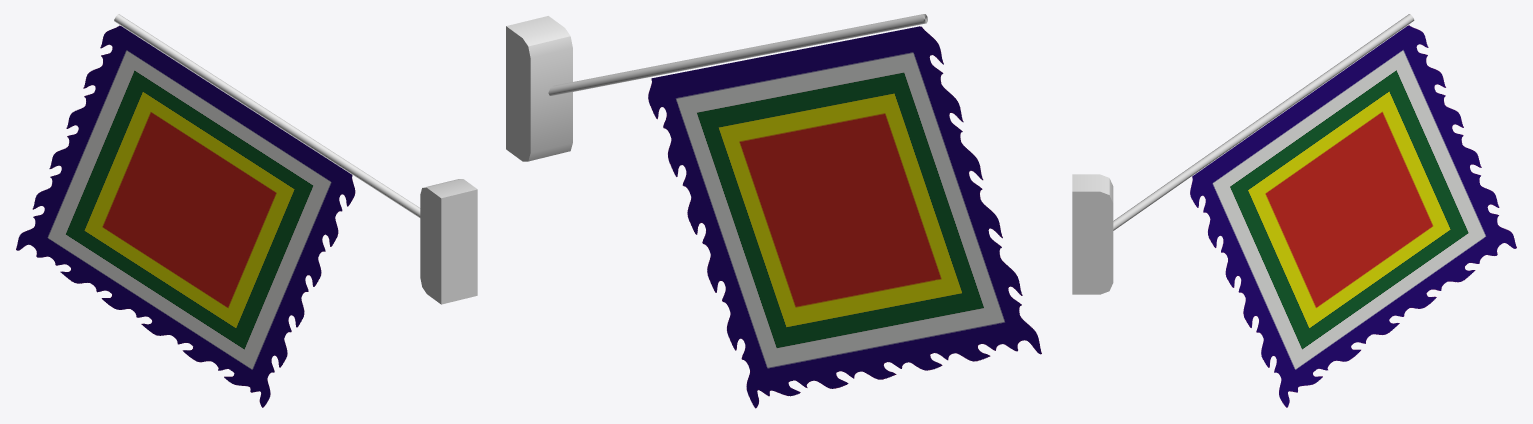
The model's file is Funeral_flag.fbx.
3 renders of one model, left to right at view 1: azimuth 30°, elevation 25°; view 2: azimuth 210°, elevation 25°; view 3: azimuth 270°, elevation 25°, orthographic. The views are drawn at different scales.
Parts seen in each view (by area): view 1: Cờ_ngũ_sắc_(cờ_hội,_cờ_tang)._Five-color_flags_(fest, Cube.062, Cylinder.004; view 2: Cờ_ngũ_sắc_(cờ_hội,_cờ_tang)._Five-color_flags_(fest, Cube.062, Cylinder.004; view 3: Cờ_ngũ_sắc_(cờ_hội,_cờ_tang)._Five-color_flags_(fest, Cube.062, Cylinder.004.
Boxes of the visible parts, x1,y1,x2,y2 form: Cờ_ngũ_sắc_(cờ_hội,_cờ_tang)._Five-color_flags_(fest: [16, 25, 355, 407]; Cube.062: [420, 179, 477, 304]; Cylinder.004: [114, 14, 420, 217]; Cờ_ngũ_sắc_(cờ_hội,_cờ_tang)._Five-color_flags_(fest: [648, 26, 1041, 408]; Cube.062: [506, 16, 572, 161]; Cylinder.004: [548, 14, 927, 95]; Cờ_ngũ_sắc_(cờ_hội,_cờ_tang)._Five-color_flags_(fest: [1190, 25, 1516, 407]; Cube.062: [1072, 174, 1113, 294]; Cylinder.004: [1113, 14, 1414, 230].
Size of the model in its own units: 138 by 208 by 236.
1 material, 1 textured.
